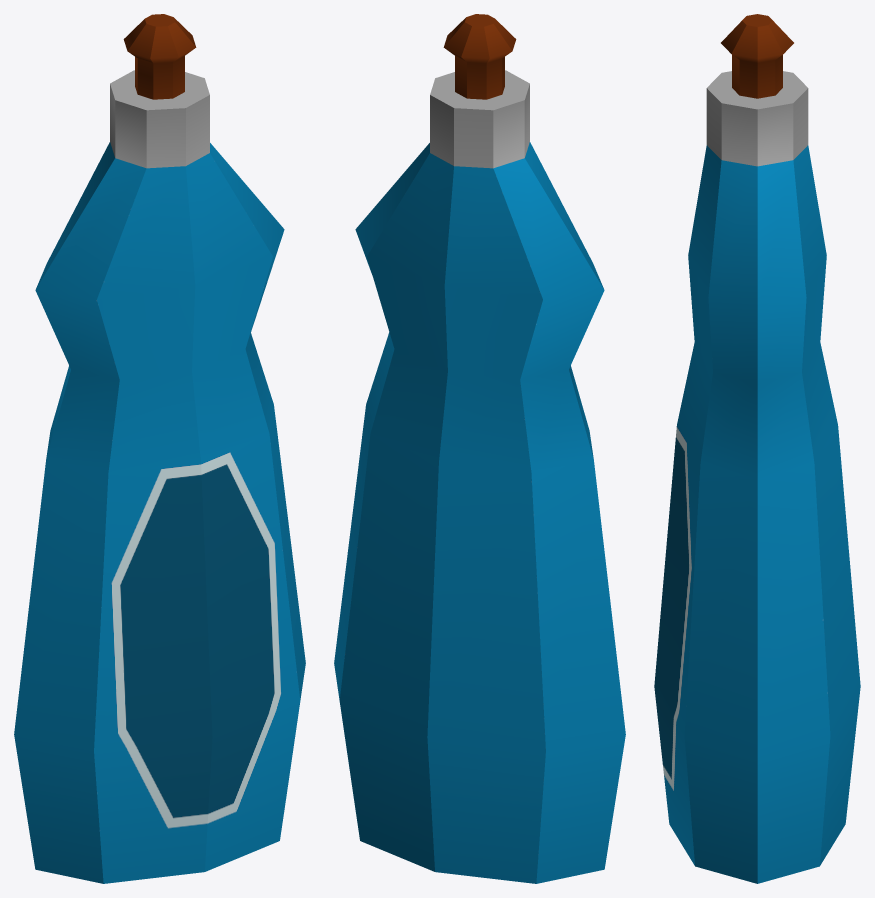
The model's file is SoapBottle.fbx.
3 views of the same model, side by side, from view 1: azimuth 30°, elevation 25°; view 2: azimuth 150°, elevation 25°; view 3: azimuth 270°, elevation 25° (orthographic).
Visible parts, largest first — view 1: pCylinder1; view 2: pCylinder1; view 3: pCylinder1.
Boxes of the visible parts, bbox=[...] form: pCylinder1: bbox=[14, 14, 305, 883]; pCylinder1: bbox=[334, 14, 625, 883]; pCylinder1: bbox=[654, 14, 860, 883].
Bounding box in the file's own units: 1.38 × 3.71 × 0.8633.
Materials: 3 (1 with a texture image).
